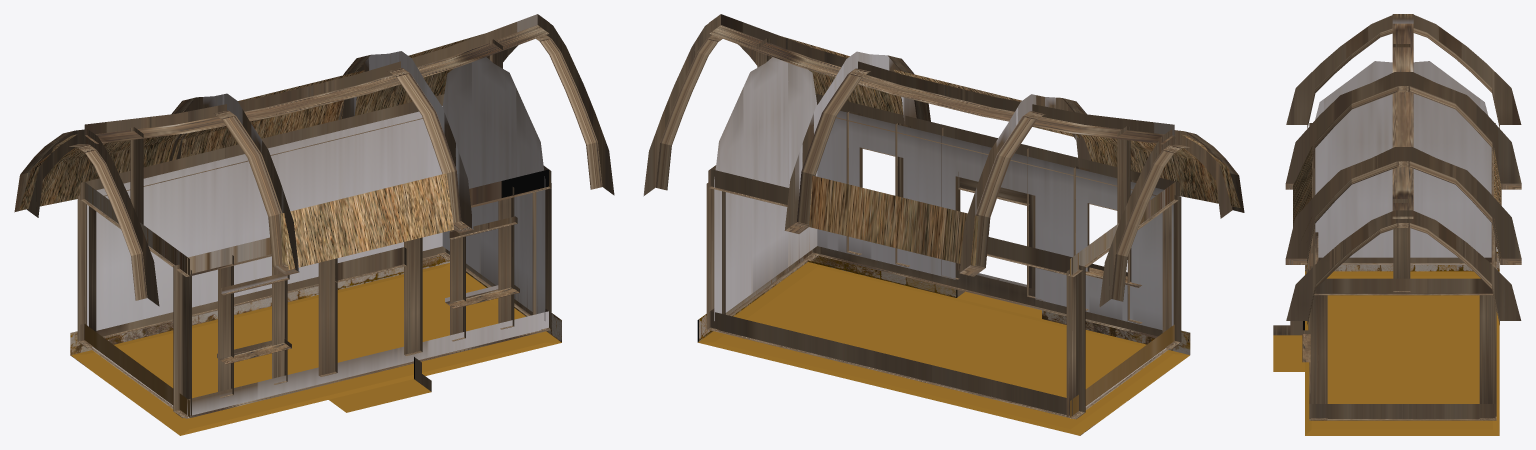
Rendered from village_house.glb.
3 views of the same model, side by side, from view 1: azimuth 30°, elevation 25°; view 2: azimuth 150°, elevation 25°; view 3: azimuth 270°, elevation 25° (orthographic). The views are drawn at different scales.
Parts seen in each view (by area): view 1: house_Cube.026; view 2: house_Cube.026; view 3: house_Cube.026.
Part boxes in pixels (left/top/right/bottom): house_Cube.026: left=14, top=14, right=614, bottom=435; house_Cube.026: left=643, top=14, right=1244, bottom=435; house_Cube.026: left=1273, top=14, right=1521, bottom=435.
Size of the model in its own units: 15.75 by 8.85 by 8.21.
1 material, 1 textured.
